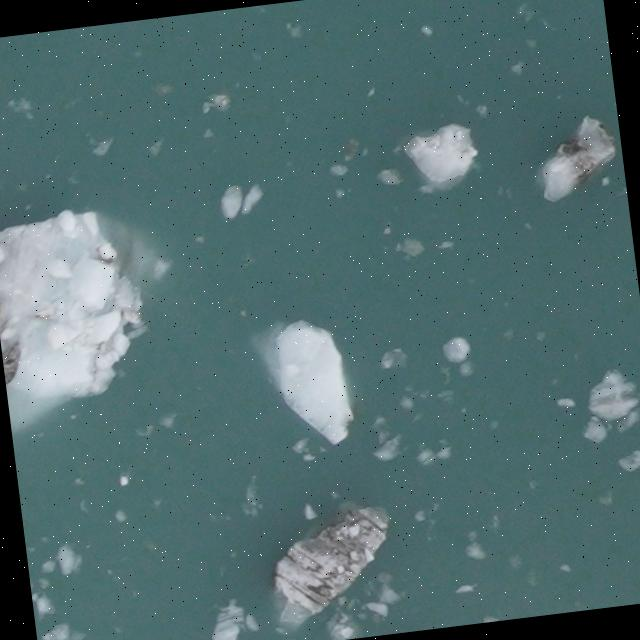seal: (0, 257, 16, 357), (1, 334, 29, 389)
